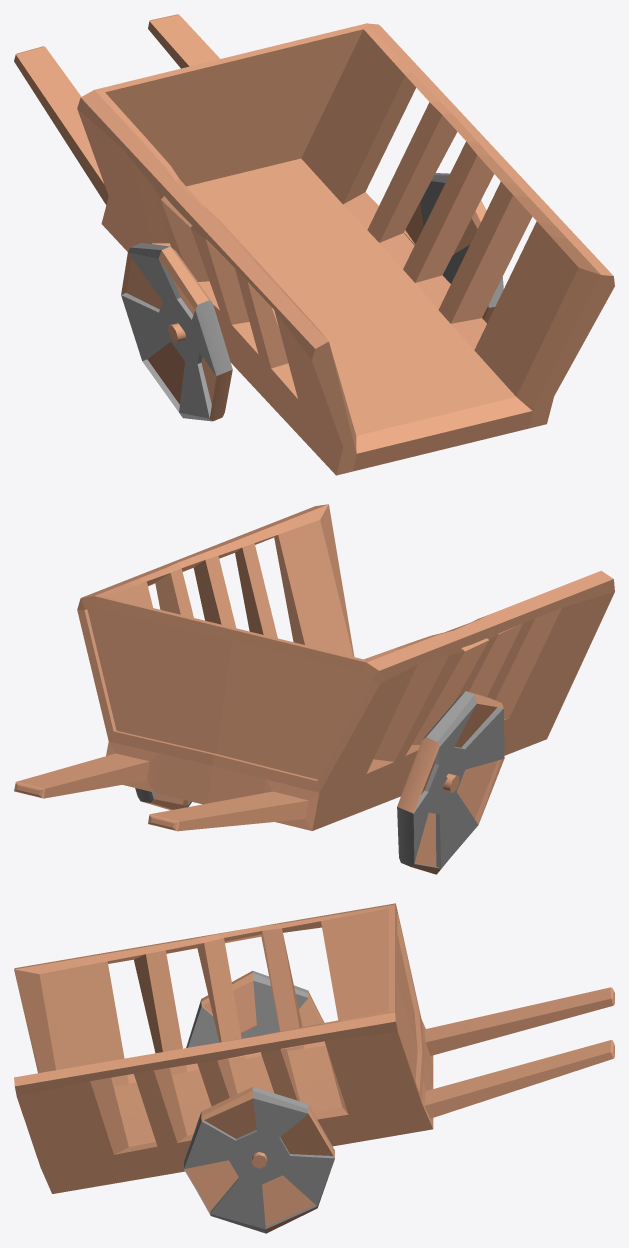
The model's file is Carroça Better.fbx.
3 renders of one model, top to bottom at view 1: azimuth 30°, elevation 25°; view 2: azimuth 150°, elevation 25°; view 3: azimuth 270°, elevation 25°, orthographic. The views are drawn at different scales.
Visible parts, largest first — view 1: Circle; view 2: Circle; view 3: Circle.
Part boxes in pixels (left/top/right/bottom): Circle: left=14, top=14, right=614, bottom=475; Circle: left=14, top=504, right=614, bottom=874; Circle: left=14, top=903, right=614, bottom=1233.
Bounding box in the file's own units: 564 × 473 × 1162.
